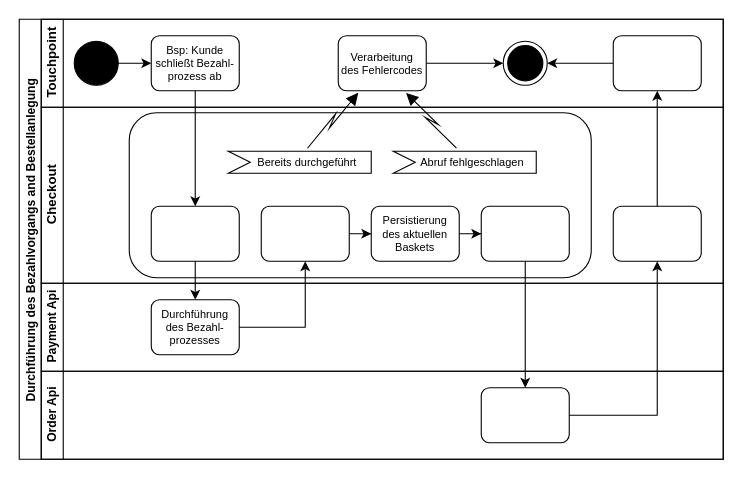
This 741x477 diagram has some shape labels left out. The shapes that lost their labels are listed below. From the top down, each one's centre as x and y in pixels, then its label:
At point (656, 63): "Abruf der Bestell- informationen anhand der ID".
At point (194, 233): "Anweisung auf Durchführung des Bezahl- prozesses".
At point (304, 233): "Aktualisierung und finalisieren des Baskets".
At point (524, 233): "Anlegung einer Bestellung für den Basket".
At point (656, 233): "Persistierung des Baskets mit Order ID".
At point (524, 415): "Bestellanlegung und Rückgabe der Bestell-ID".
